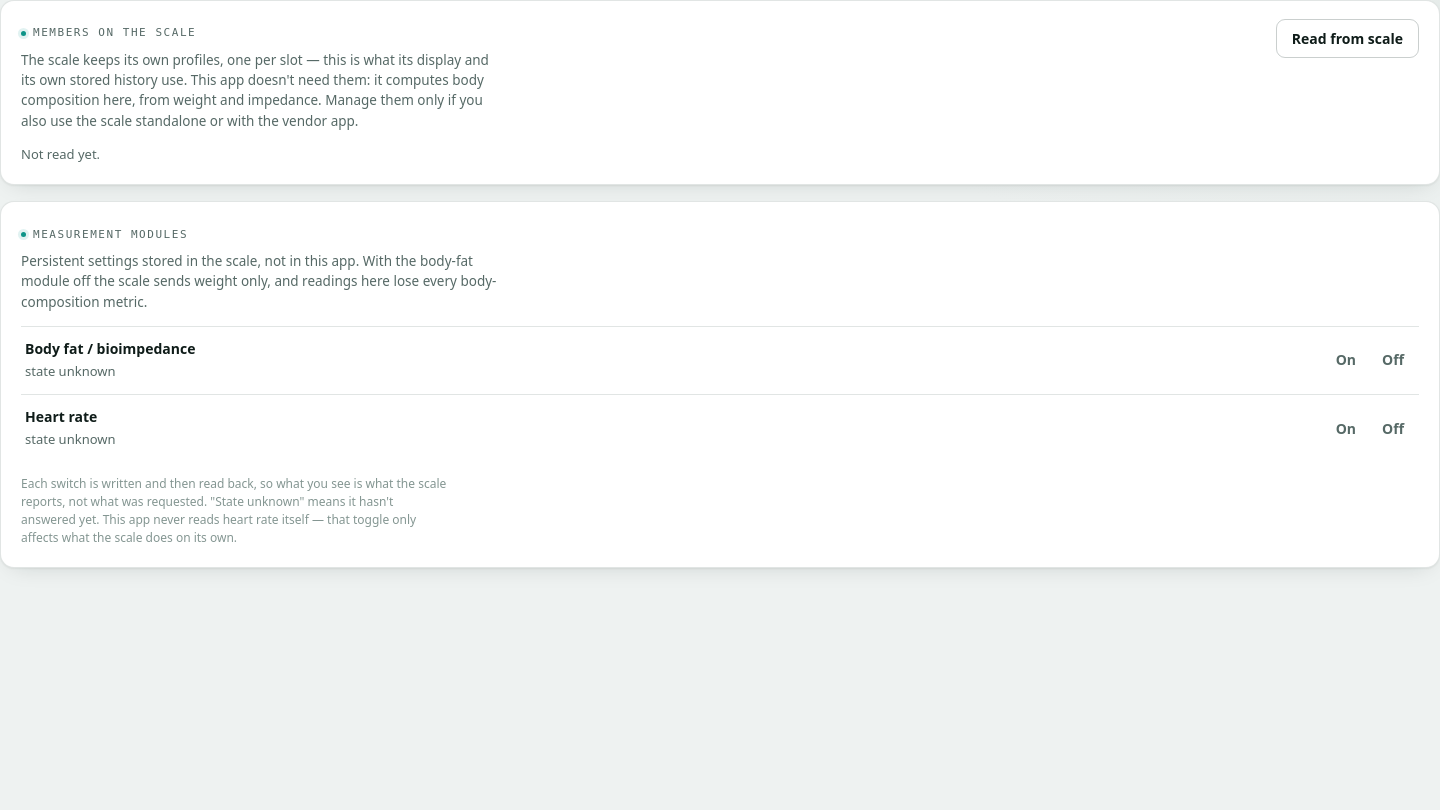
DevicePanel › lists stored members with their decoded slots and offers the first free one
Click the button "Read from scale": [1347, 38] box [1276,19,1419,58]
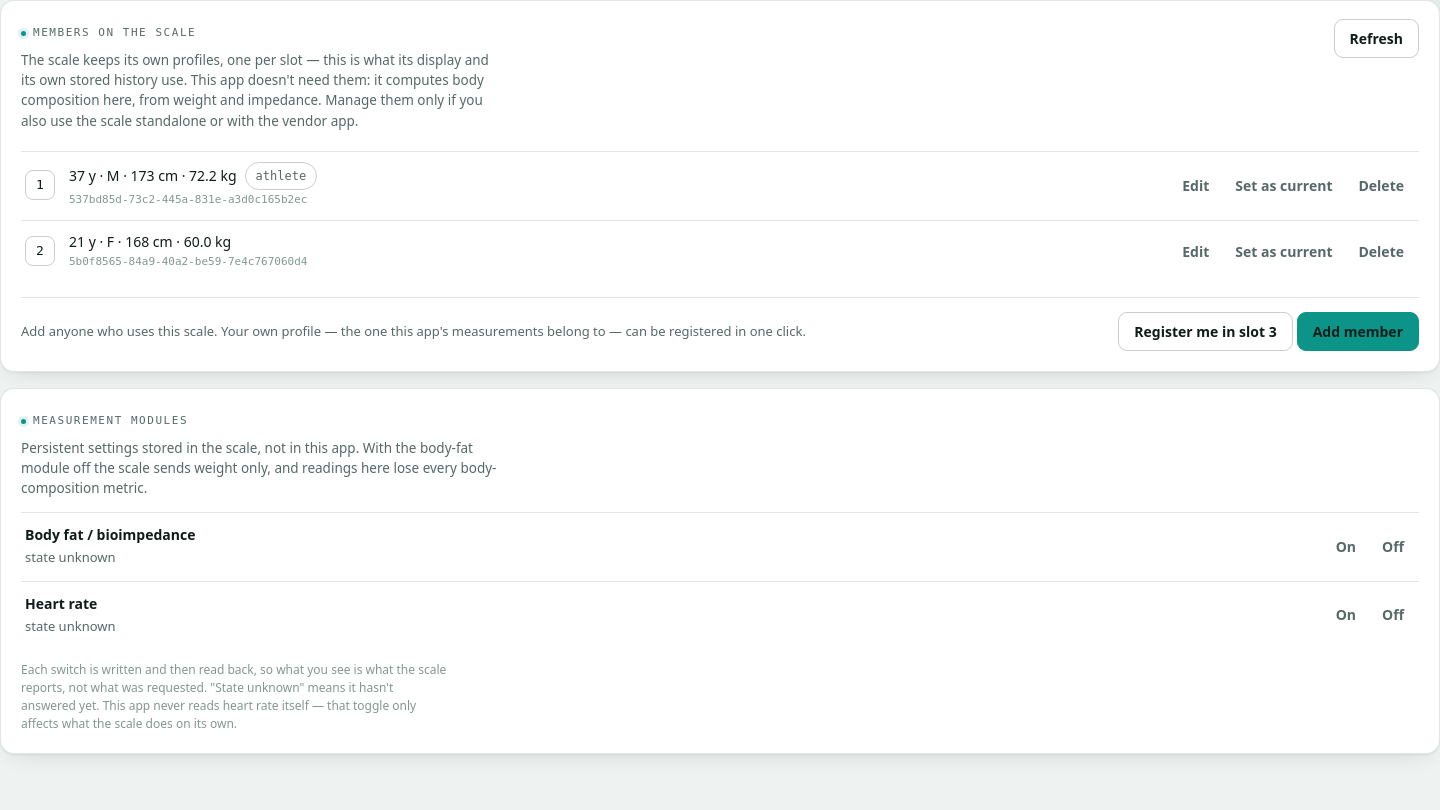
Expected: the text "37 y · M · 173 cm · 72.2 kg athlete" is shown, [69,162,317,190]
Expected: the text "21 y · F · 168 cm · 60.0 kg" is shown, [69,232,231,251]
Expected: the button "Register me in slot 3" is shown, [1118,312,1293,351]
